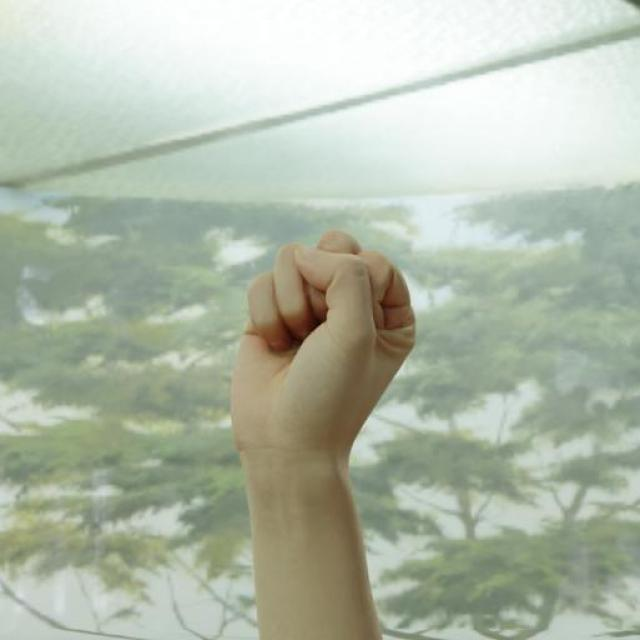S: (227, 222, 418, 463)
